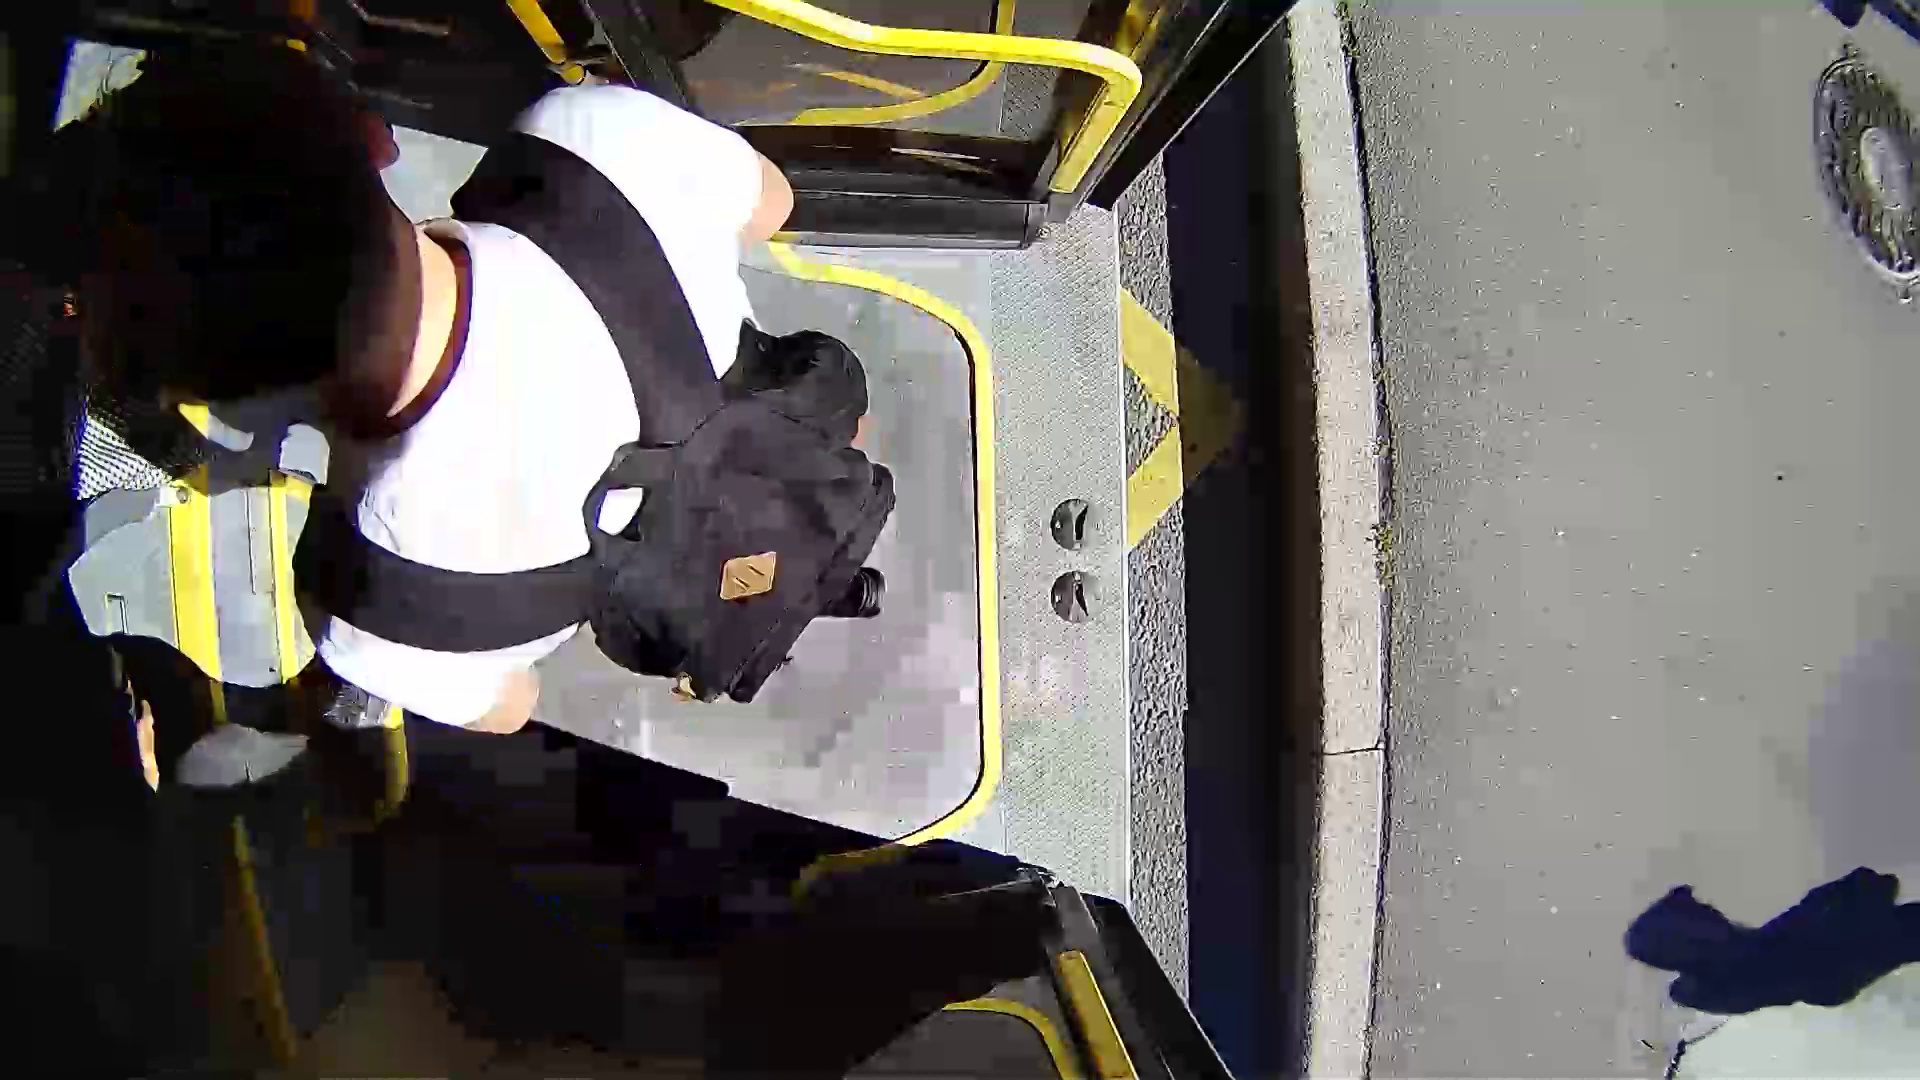person: (55, 55, 1089, 769)
